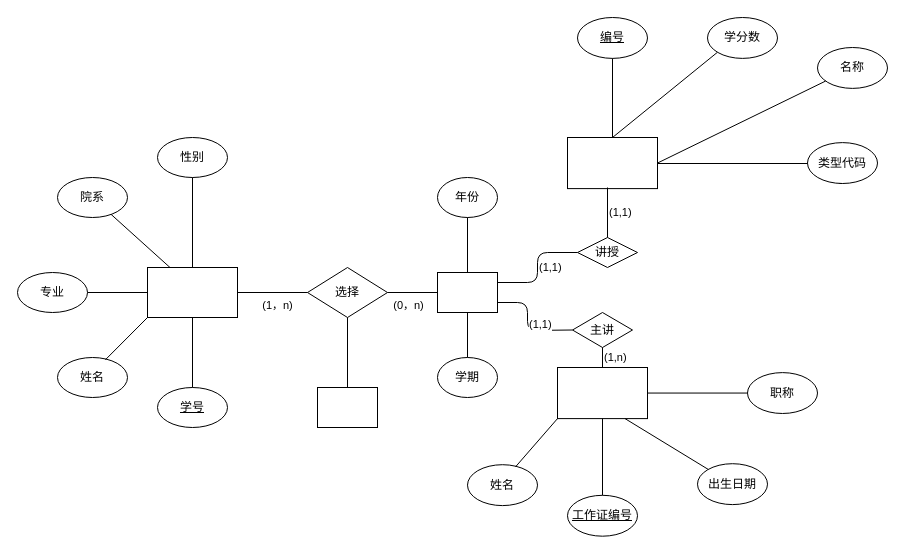
Some shapes in this 905 by 554 pixel diagram are drawn without their labels. Each missing label, with the centre of its shape:
"学生" belongs at [192,292].
"成绩" belongs at [347,407].
"教师" belongs at [602,392].
"班级" belongs at [467,292].
"课程" belongs at [612,162].
